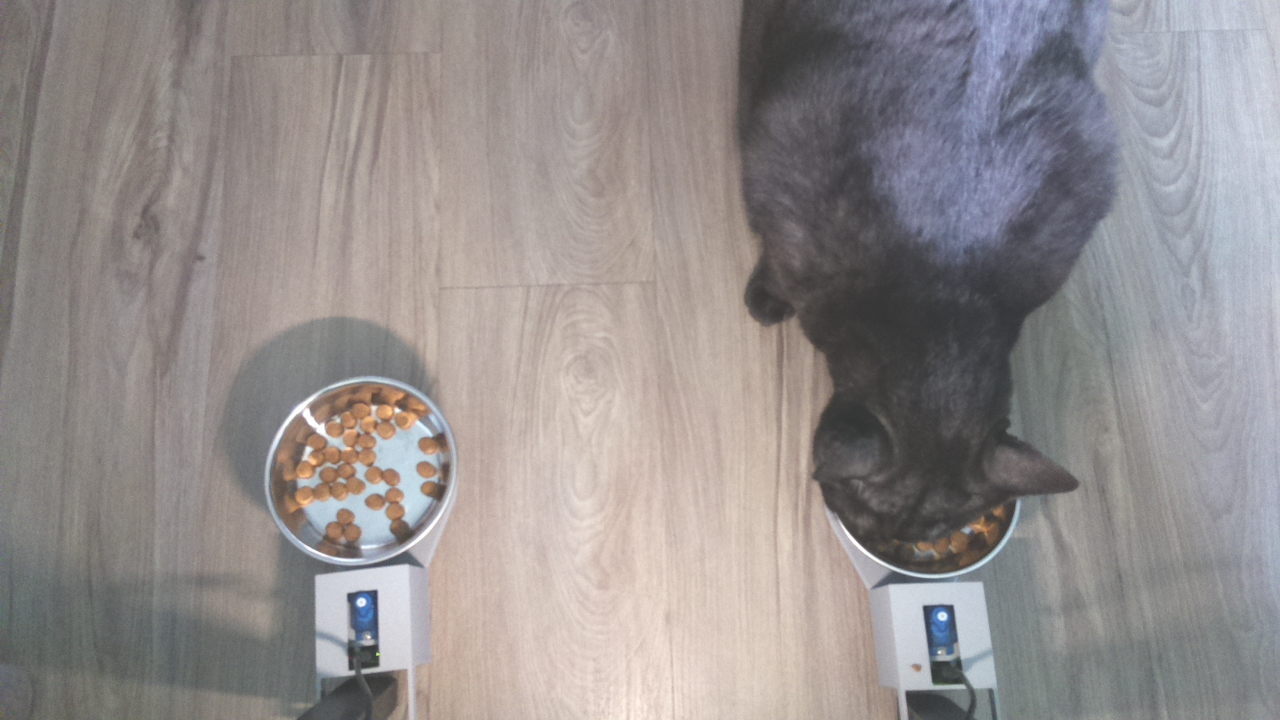open_bowl: (259, 375, 458, 575)
saki_eating: (804, 350, 1097, 589)
